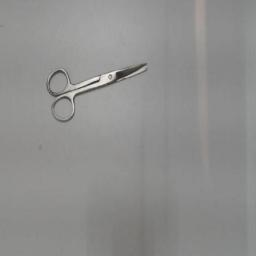Dressing Scissors: (40, 56, 156, 128)
